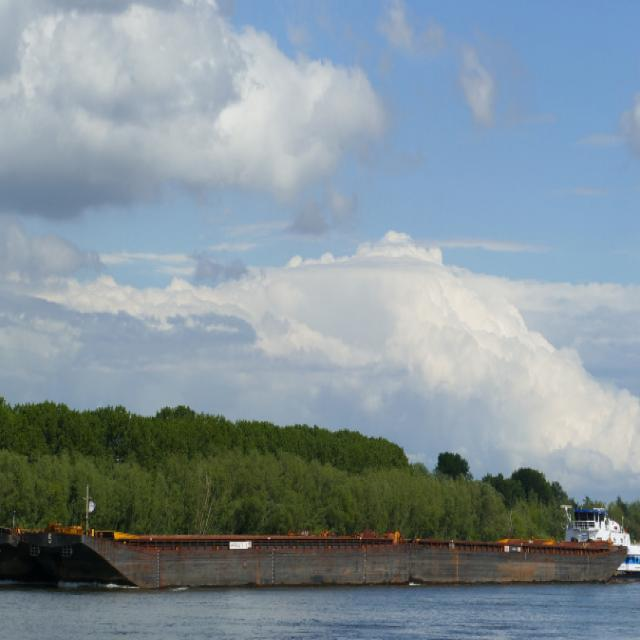tugboat: (555, 502, 640, 590)
